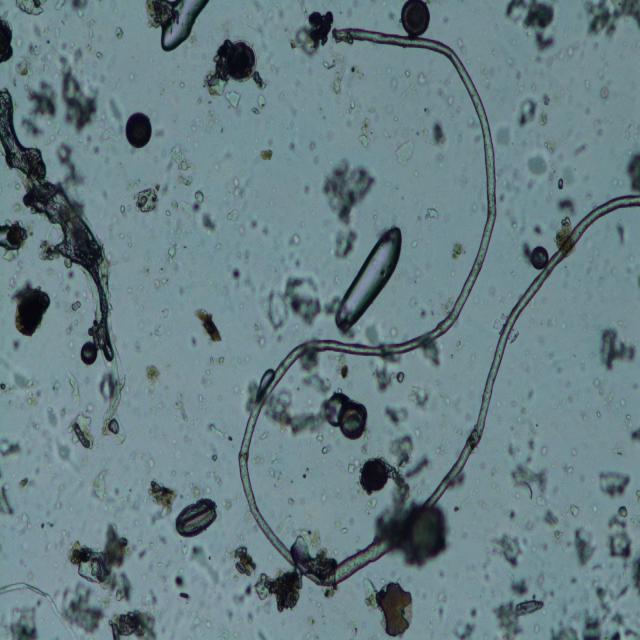Air bubble: (156, 0, 209, 53)
Background material: (330, 224, 406, 334), (317, 162, 373, 254), (69, 524, 133, 600), (10, 26, 100, 80), (549, 589, 640, 640), (46, 121, 96, 200), (379, 466, 413, 541), (505, 457, 553, 510), (404, 510, 451, 564), (270, 396, 330, 438), (62, 70, 100, 136), (509, 3, 558, 53), (597, 320, 640, 375), (580, 0, 639, 35), (108, 602, 160, 640), (39, 398, 71, 459), (604, 504, 636, 565), (286, 271, 324, 321), (264, 569, 306, 613), (65, 586, 106, 631), (302, 353, 340, 397), (594, 463, 636, 502), (297, 10, 334, 54), (28, 82, 62, 126), (191, 307, 227, 348), (224, 544, 262, 582), (202, 46, 228, 101), (66, 410, 97, 453), (492, 529, 526, 568), (222, 581, 256, 620), (189, 192, 219, 236), (322, 52, 356, 90), (131, 181, 165, 219), (146, 475, 178, 514), (194, 546, 222, 589), (290, 517, 324, 552), (8, 602, 42, 637), (572, 525, 598, 570), (182, 471, 222, 500), (496, 600, 524, 638), (405, 376, 435, 410), (8, 366, 38, 399), (106, 487, 140, 516), (388, 433, 414, 469), (404, 451, 436, 480), (16, 0, 48, 29), (372, 366, 406, 393), (139, 357, 166, 390), (264, 291, 288, 328), (189, 106, 223, 132), (394, 132, 416, 168), (0, 19, 16, 68), (63, 290, 82, 331), (91, 465, 111, 503), (131, 533, 155, 564), (171, 389, 191, 425), (427, 117, 449, 149), (0, 485, 20, 520), (168, 145, 192, 174), (432, 578, 448, 621), (612, 215, 630, 253), (498, 174, 520, 205), (246, 140, 272, 166), (205, 420, 232, 445), (551, 221, 575, 248), (382, 402, 410, 425), (526, 152, 552, 176), (269, 461, 289, 492), (450, 616, 481, 636), (352, 121, 374, 149), (523, 425, 540, 461), (516, 99, 536, 128), (504, 202, 524, 231), (112, 9, 128, 45), (626, 152, 640, 193), (200, 353, 216, 388), (172, 569, 192, 596), (508, 407, 530, 431), (0, 434, 22, 458), (426, 342, 444, 370), (562, 185, 578, 216), (628, 555, 640, 596), (510, 575, 532, 597), (163, 242, 183, 266), (250, 95, 268, 121), (85, 339, 100, 370), (222, 88, 242, 111), (184, 613, 210, 630), (68, 0, 94, 17), (587, 380, 607, 401), (323, 583, 341, 606), (542, 133, 559, 157), (564, 500, 584, 520), (99, 26, 109, 66), (252, 318, 264, 348), (305, 610, 317, 640), (542, 511, 560, 530), (494, 126, 509, 148), (598, 83, 612, 106), (533, 570, 549, 590), (566, 569, 582, 589), (327, 455, 347, 471), (336, 356, 348, 382), (328, 80, 343, 100), (348, 456, 361, 479), (506, 439, 520, 460), (567, 44, 584, 61), (229, 266, 245, 284), (362, 496, 380, 512), (521, 515, 537, 533), (622, 409, 638, 426), (344, 95, 358, 114), (472, 494, 488, 510), (245, 213, 261, 229), (326, 294, 340, 312), (561, 461, 577, 476), (289, 226, 299, 250), (504, 505, 518, 522), (480, 562, 491, 583), (398, 64, 414, 78), (450, 477, 468, 489), (415, 302, 427, 320), (428, 204, 440, 222), (593, 560, 605, 578), (568, 443, 582, 458), (225, 206, 239, 221), (551, 525, 561, 545), (214, 626, 228, 640), (573, 146, 590, 157), (322, 443, 336, 456), (415, 72, 429, 85), (254, 628, 269, 640), (218, 350, 228, 368), (286, 493, 298, 508), (312, 594, 322, 612), (541, 444, 553, 459), (631, 428, 640, 447), (161, 304, 171, 321), (456, 238, 464, 259), (301, 463, 310, 481), (262, 222, 272, 238), (455, 34, 465, 50), (468, 602, 478, 618), (538, 108, 546, 127), (159, 531, 169, 546), (337, 524, 349, 536), (245, 612, 258, 623), (211, 449, 219, 466), (454, 499, 463, 514), (348, 625, 358, 637), (526, 383, 534, 398), (536, 222, 544, 236), (447, 95, 457, 106), (260, 433, 270, 444), (150, 516, 161, 525), (321, 491, 330, 502), (456, 339, 464, 350), (620, 396, 628, 406), (542, 97, 550, 107), (178, 82, 186, 89), (598, 408, 603, 419), (584, 415, 588, 420)
Cellulose filter fibre: (0, 90, 130, 445), (0, 573, 77, 639)
Diatom: (371, 579, 415, 637), (176, 501, 222, 534), (10, 292, 48, 331), (227, 40, 260, 84), (361, 458, 392, 496), (124, 113, 153, 151), (341, 400, 368, 439), (400, 4, 431, 33), (514, 596, 546, 618), (530, 243, 550, 275), (7, 223, 26, 251)
Microfibre: (233, 15, 612, 615)
